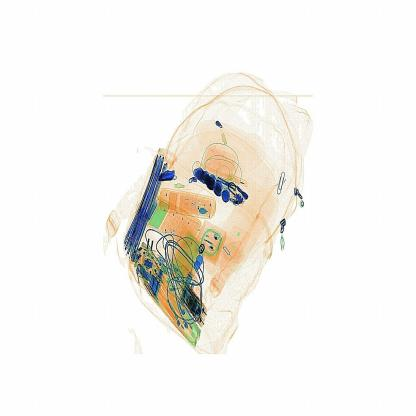knife: (160, 169, 180, 185)
